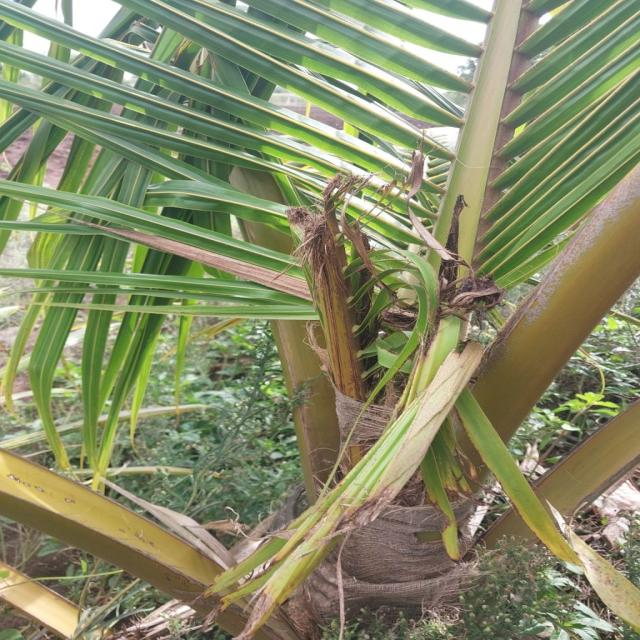bud rot: (287, 149, 503, 400)
